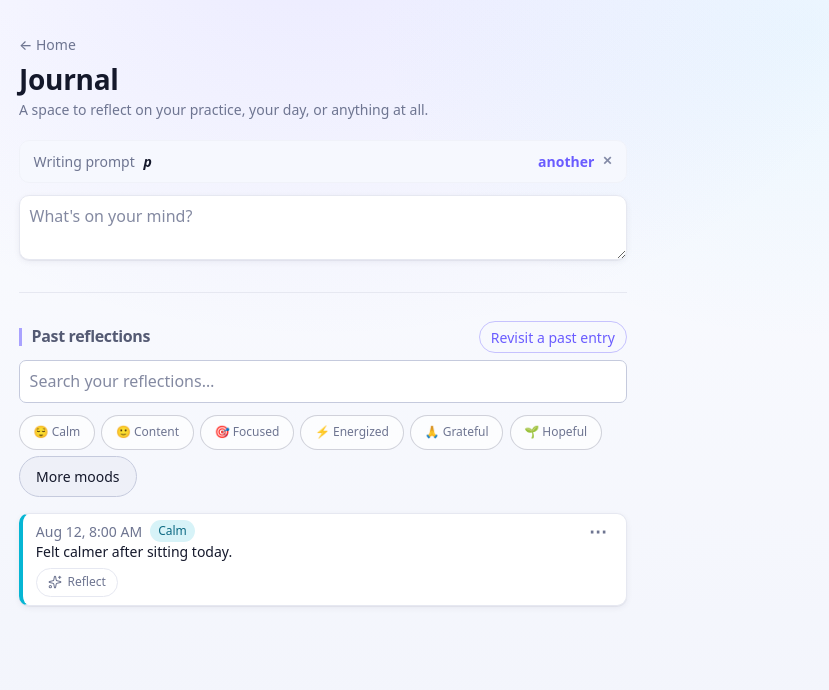
it: JournalPage — AI reflection › tapping Reflect shows the reflection and follow-up as a quiet card
The width and height of the screenshot is (829, 690).
Click the button with aria-label "get a gentle reflection on this entry".
click(77, 582)  # box [36,568,118,597]
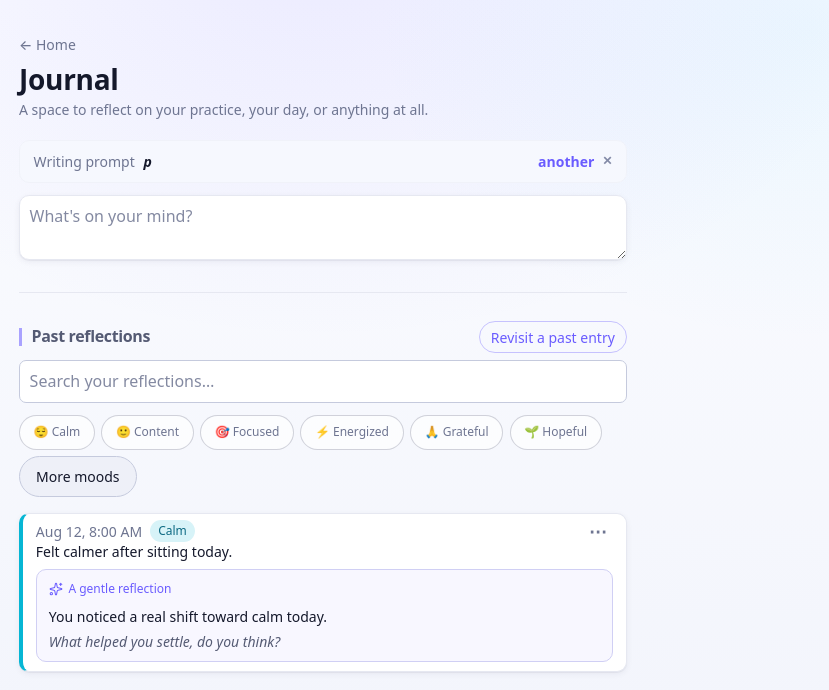
expect the text "You noticed a real shift toward calm today." is shown: met, box [49,607,327,626]
expect the text "What helped you settle, do you think?" is shown: met, box [49,632,280,651]
expect the text "A gentle reflection" is shown: met, box [49,580,171,598]
